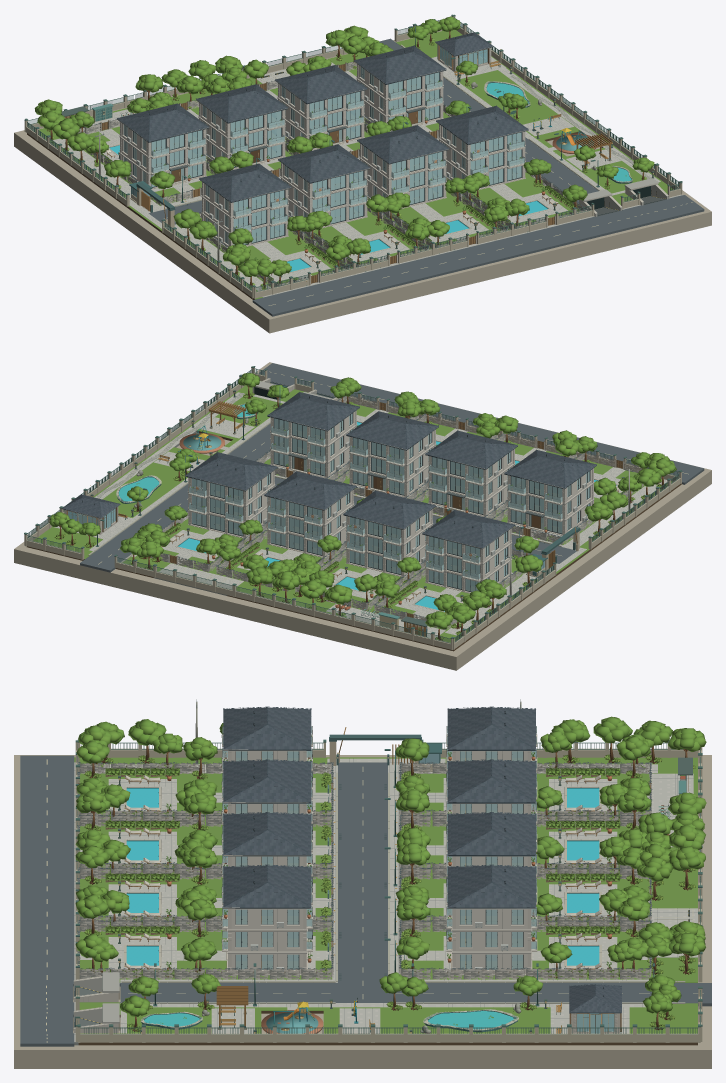
File: community.glb
3 renders of one model, top to bottom at view 1: azimuth 30°, elevation 25°; view 2: azimuth 150°, elevation 25°; view 3: azimuth 270°, elevation 25°, orthographic. The views are drawn at different scales.
Parts seen in each view (by area): view 1: environment_opaque, building-01_opaque, building-04_opaque, building-05_opaque, building-03_opaque, building-02_opaque, building-08_opaque, building-07_opaque, building-06_opaque, building-05_glass, building-08_glass, building-06_glass (+6 smaller); view 2: environment_opaque, building-05_opaque, building-06_opaque, building-08_opaque, building-07_opaque, building-01_opaque, building-04_opaque, building-02_opaque, building-03_opaque, building-01_glass, building-04_glass, building-03_glass (+6 smaller); view 3: environment_opaque, building-04_opaque, building-08_opaque, environment_water, building-01_opaque, building-03_opaque, building-02_opaque, building-05_opaque, building-06_opaque, building-07_opaque, building-08_glass, building-04_glass (+1 smaller).
Part boxes in pixels (box(x1,y1,x2,y2)): environment_opaque: box(14, 14, 711, 333); building-01_opaque: box(116, 103, 209, 189); building-04_opaque: box(354, 45, 446, 131); building-05_opaque: box(199, 163, 291, 247); building-03_opaque: box(275, 65, 367, 150); building-02_opaque: box(196, 84, 288, 169); building-08_opaque: box(436, 105, 528, 189); building-07_opaque: box(357, 125, 449, 208); building-06_opaque: box(278, 144, 370, 230); building-05_glass: box(206, 185, 287, 245); building-08_glass: box(443, 127, 524, 184); building-06_glass: box(285, 166, 366, 223); environment_opaque: box(14, 362, 711, 670); building-05_opaque: box(504, 449, 596, 535); building-06_opaque: box(425, 430, 517, 516); building-08_opaque: box(267, 392, 359, 478); building-07_opaque: box(346, 411, 438, 497); building-01_opaque: box(422, 509, 514, 593); building-04_opaque: box(185, 451, 277, 538); building-02_opaque: box(343, 490, 435, 577); building-03_opaque: box(264, 471, 356, 558); building-01_glass: box(426, 532, 507, 591); building-04_glass: box(189, 474, 270, 535); building-03_glass: box(268, 493, 349, 554); environment_opaque: box(14, 699, 711, 1068); building-04_opaque: box(446, 864, 537, 975); building-08_opaque: box(221, 864, 312, 975); environment_water: box(126, 788, 599, 1029); building-01_opaque: box(446, 706, 537, 786); building-03_opaque: box(446, 812, 537, 891); building-02_opaque: box(446, 759, 537, 839); building-05_opaque: box(221, 706, 312, 786); building-06_opaque: box(221, 759, 312, 839); building-07_opaque: box(221, 812, 312, 891); building-08_glass: box(222, 884, 312, 969); building-04_glass: box(447, 884, 536, 969).
Size of the model in its own units: 84 by 13.83 by 84.
